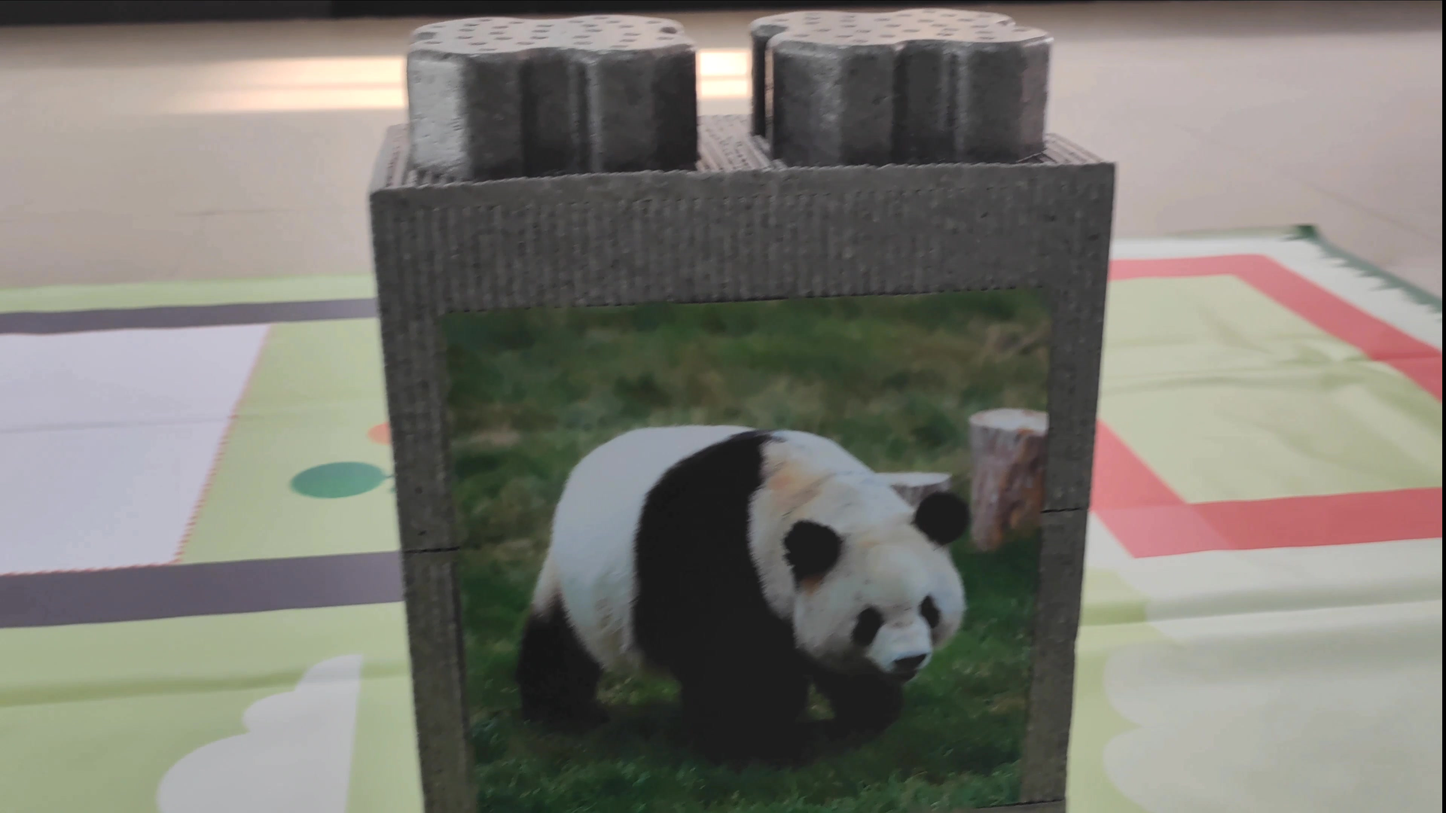panda: (517, 385, 972, 772)
